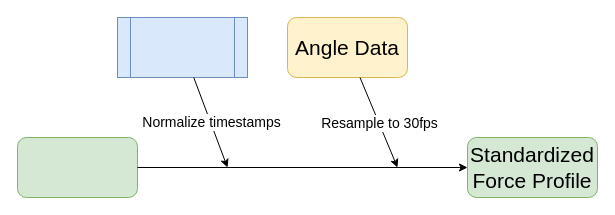
Some shapes in this 615 by 215 pixel diagram are drawn without their labels. Here are the shapes that lost their labels. From the top down, the centre of each, then its label:
the point at 182,47: Excavation Footage
the point at 77,167: Raw Force Profile
